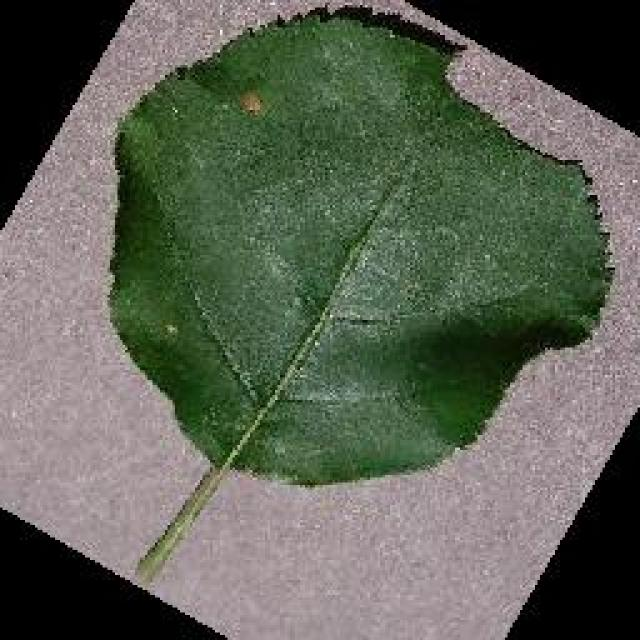Black_rot: (105, 0, 615, 585)
